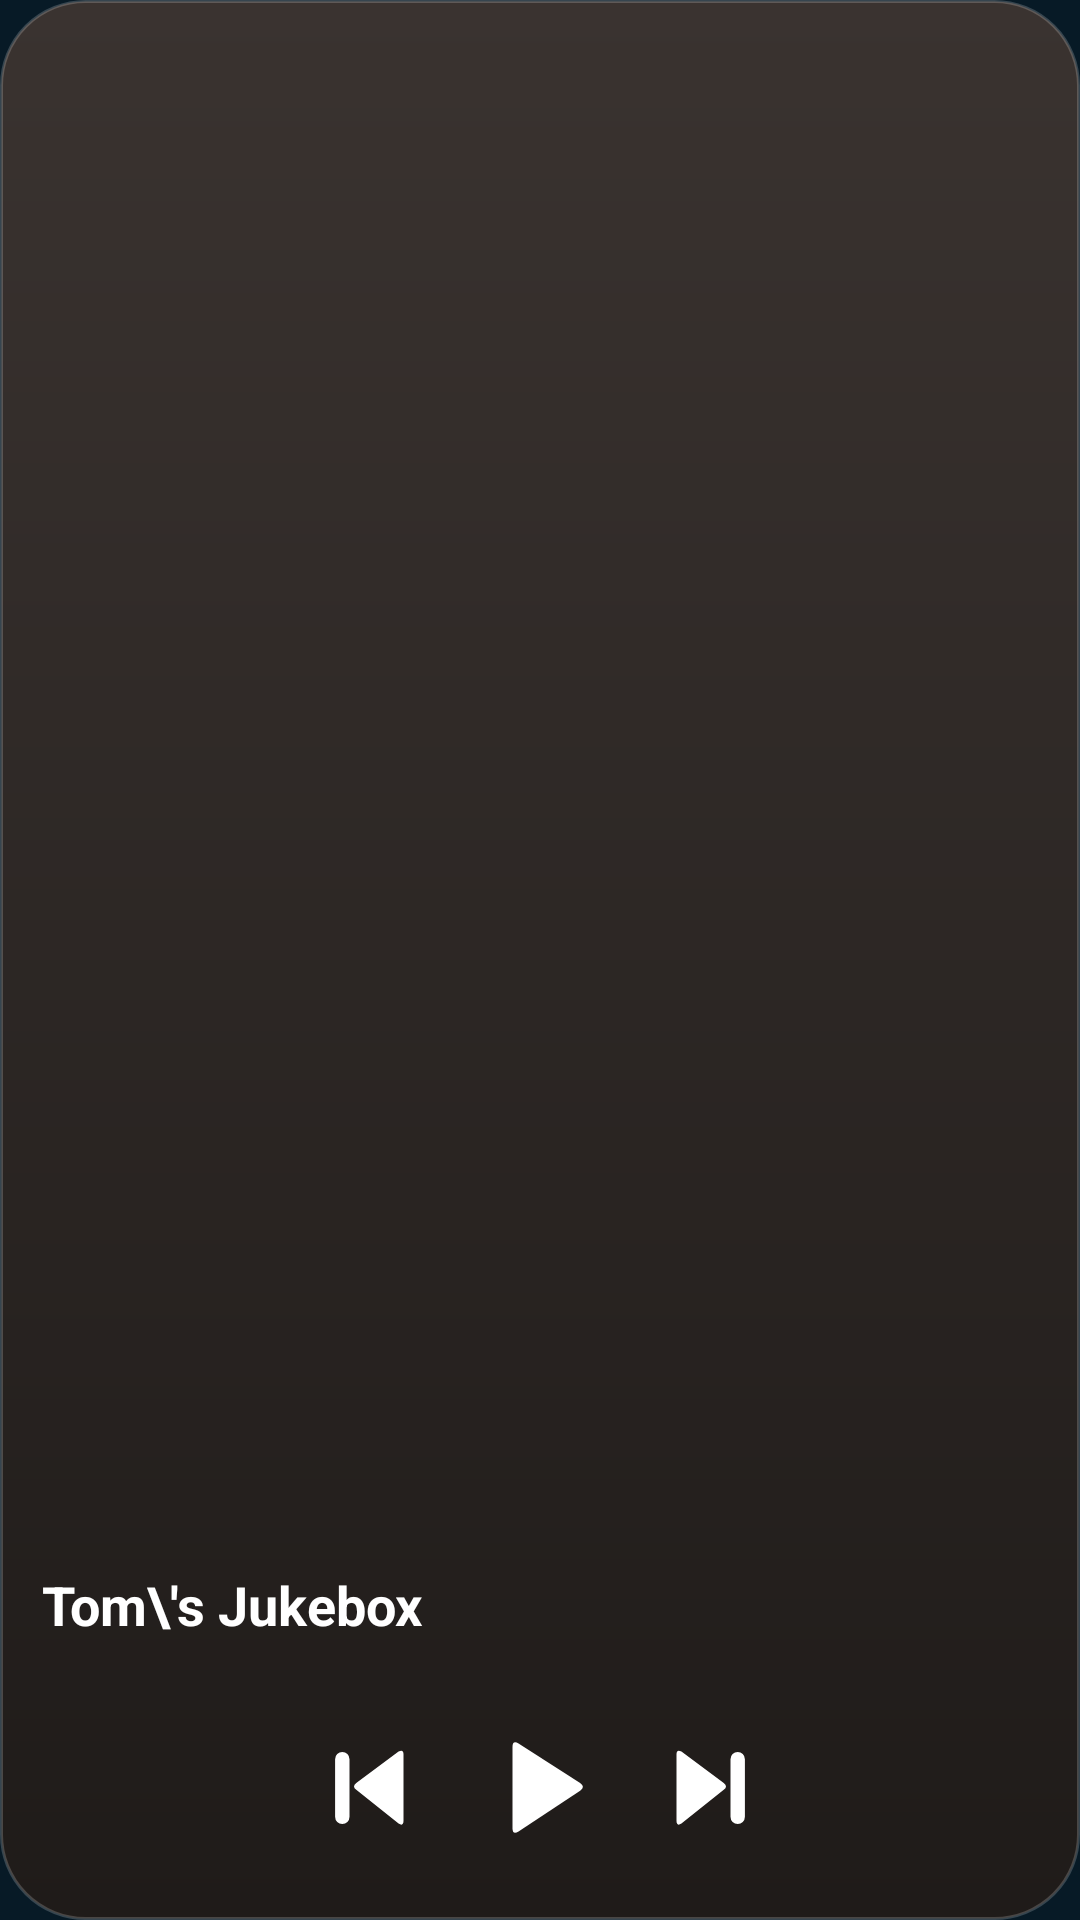

Icons on this 1080w x 1920h Android screen, each with its box as (x1, y1, x2, y2):
Next: (676, 1750, 745, 1825)
Play: (512, 1742, 583, 1833)
Previous: (335, 1750, 404, 1825)
